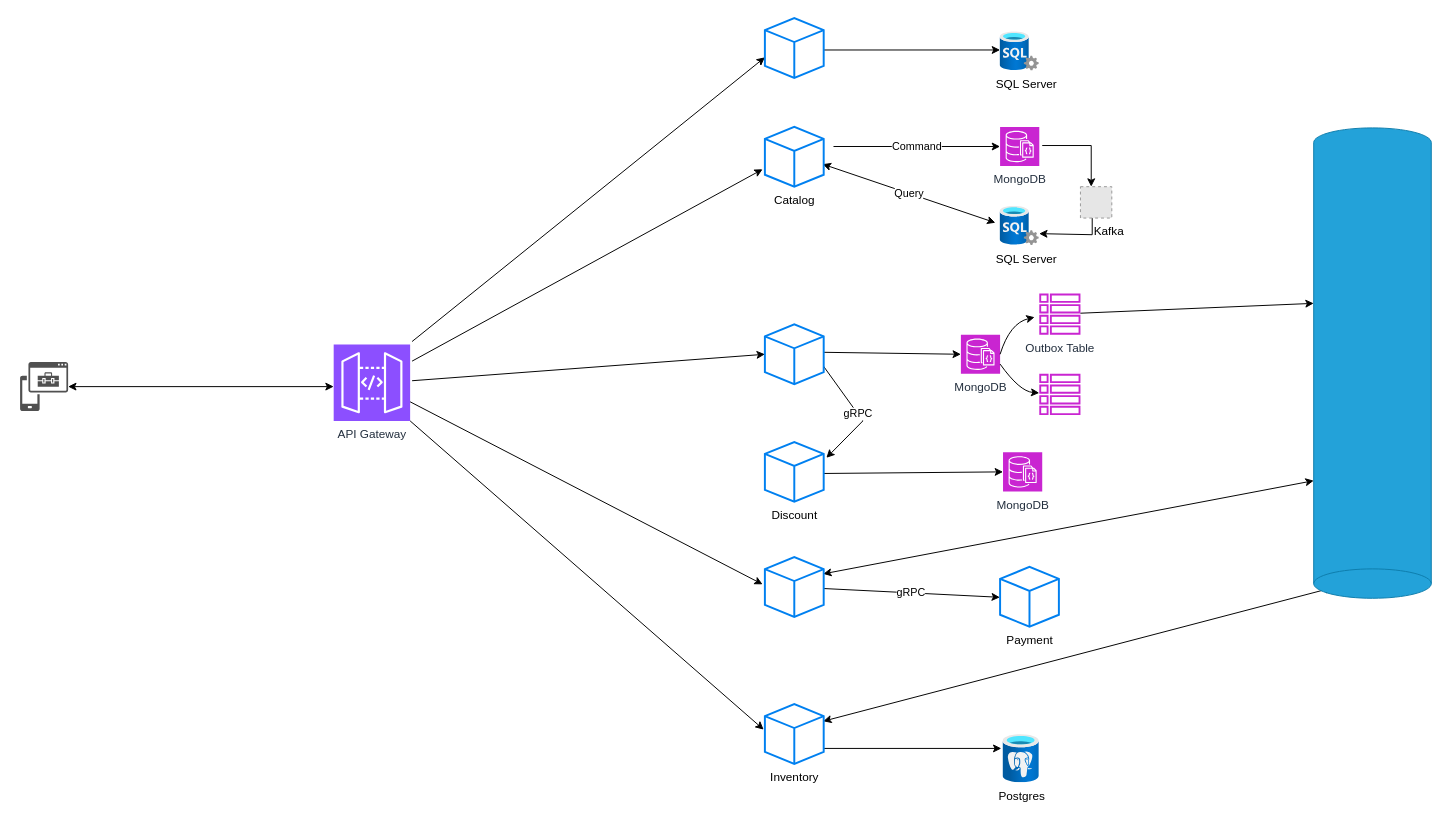
The diagram is 1448 pixels wide and 820 high, and some of its shapes have lost their labels. Grey dashed boxes stand in for pictures. The centre of each missing label's shape, as x and y in pixels:
Basket: point (793, 354)
Client App: point (44, 386)
Message Bus [Message Broker: RabbitMQ]: point (1372, 362)
Ordering: point (793, 586)
ShoppingCart Table: point (1059, 394)
User Management: point (793, 47)
